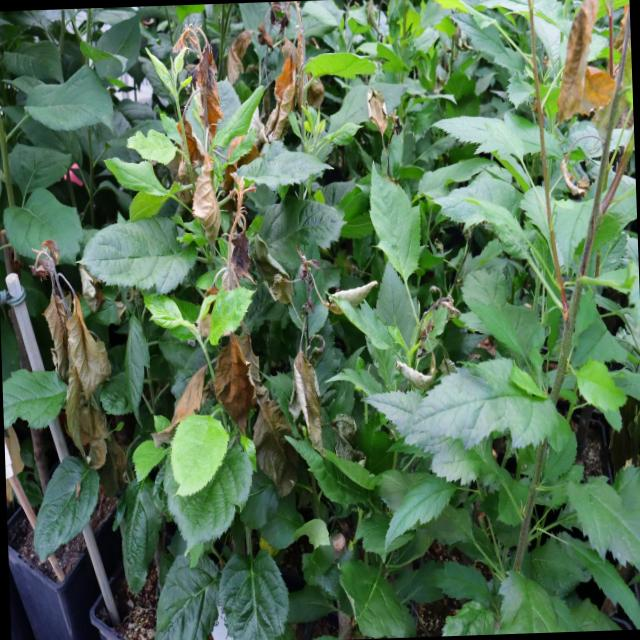-FireBlight-: (146, 237, 371, 495), (166, 33, 260, 296), (28, 228, 118, 486), (218, 2, 320, 147), (547, 0, 624, 132)
